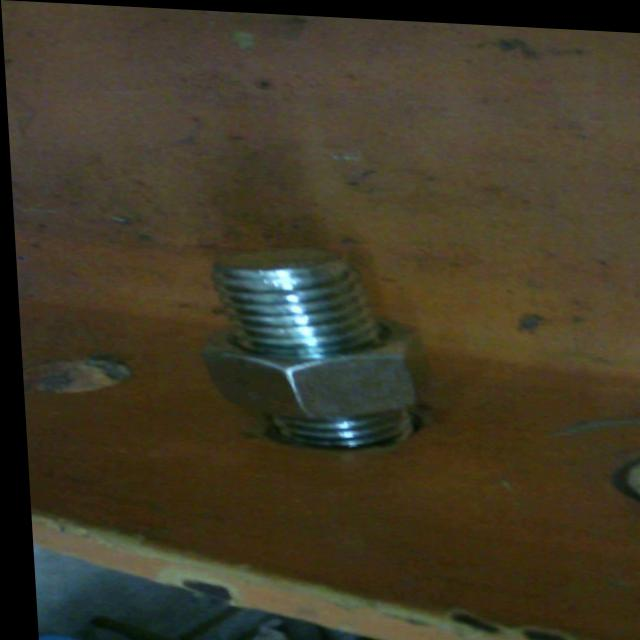Loose bolt: (194, 235, 425, 450)
Missing bolt: (18, 353, 132, 400), (613, 445, 640, 503)
